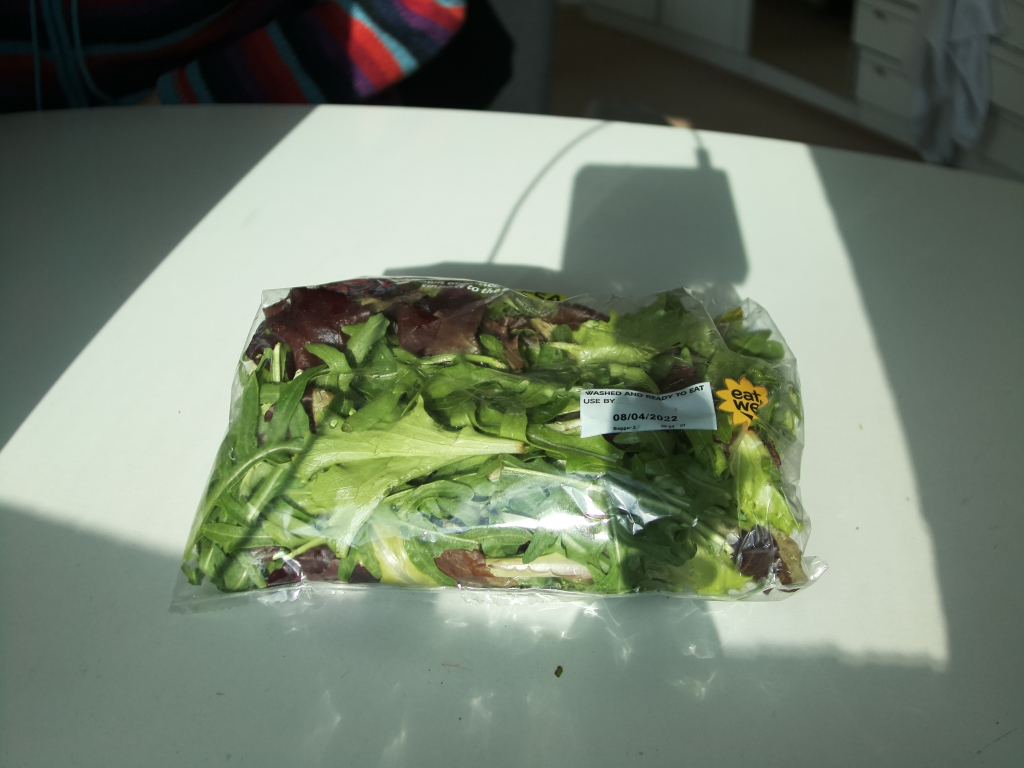salad: (184, 277, 822, 601)
